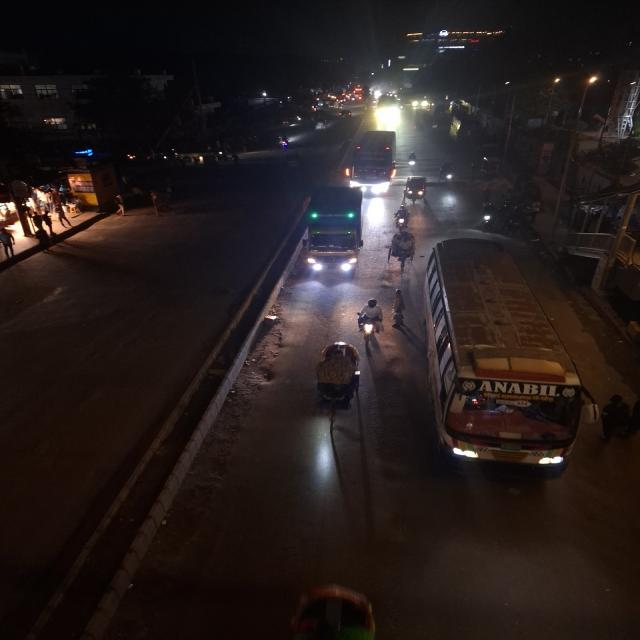bus: (423, 236, 598, 478), (344, 128, 399, 196)
cng: (401, 174, 430, 206)
motorcycle: (352, 295, 387, 347), (475, 201, 499, 232), (436, 161, 458, 185), (392, 204, 410, 230), (405, 150, 420, 169), (276, 134, 293, 150)
pedestrian: (596, 390, 638, 446), (110, 193, 128, 217)
rickshaw: (309, 339, 366, 418), (388, 228, 418, 270)
truck: (298, 182, 368, 281)
